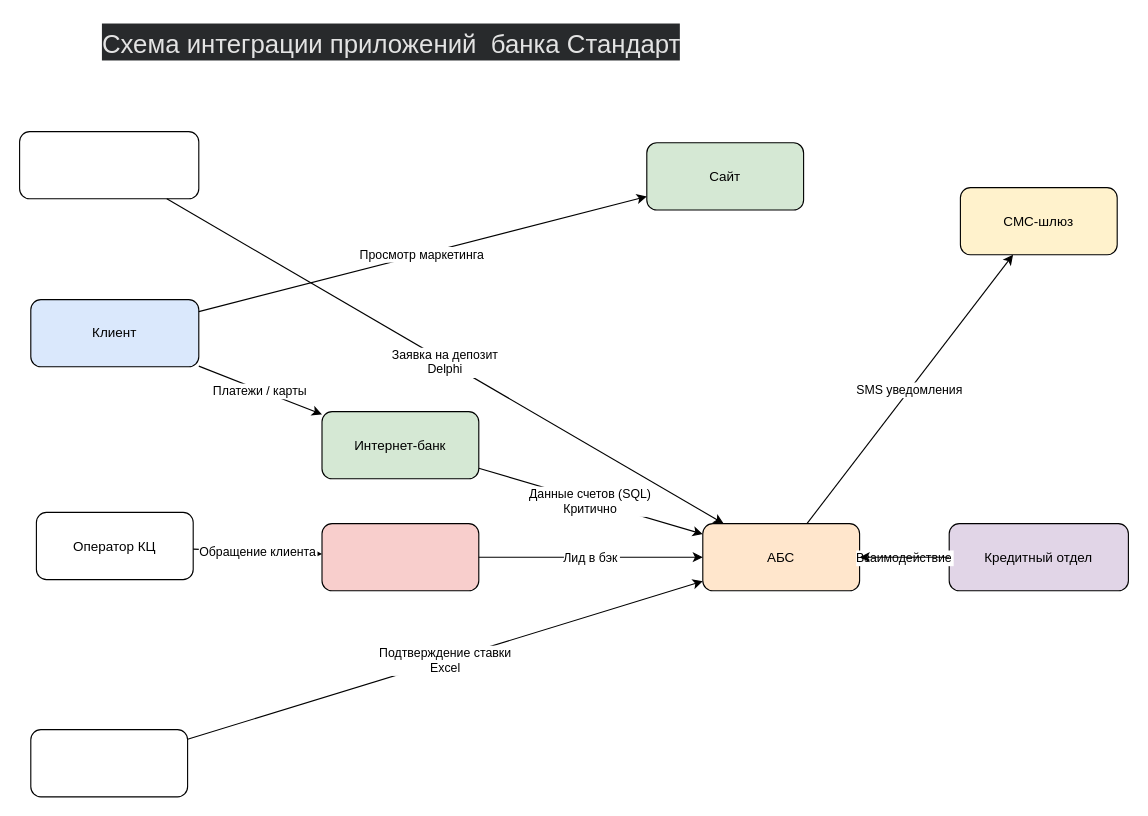
Image size: 1148x816. Some labels were removed from this diagram. The shapes that lost their labels are listed below. From the top down, each one's centre as x and y in pixels, then its label:
(x=108, y=164): Сотрудник отделения
(x=400, y=556): Система КЦ
(x=109, y=763): Менеджер бэк-офиса
